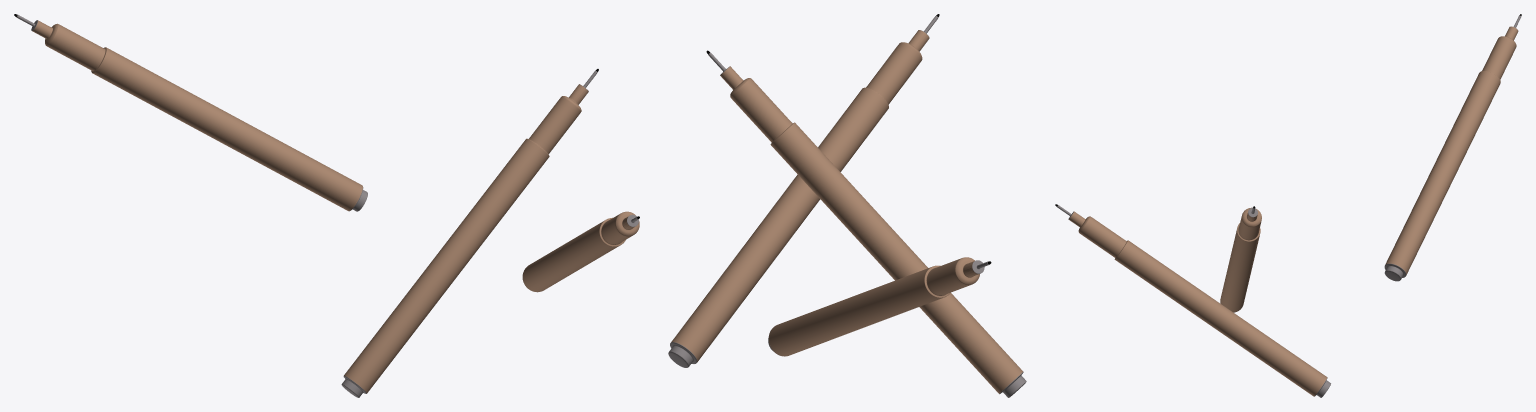
Rendered from pen-transformed.glb.
The picture shows the model from 3 angles, left to right: view 1: azimuth 30°, elevation 25°; view 2: azimuth 150°, elevation 25°; view 3: azimuth 270°, elevation 25°; orthographic projection. The views are drawn at different scales.
Visible parts, largest first — view 1: Cylinder; view 2: Cylinder; view 3: Cylinder.
Boxes of the visible parts, left/top/right/bottom form: Cylinder: left=14, top=14, right=639, bottom=397; Cylinder: left=668, top=14, right=1026, bottom=397; Cylinder: left=1055, top=14, right=1521, bottom=397.
Size of the model in its own units: 2.58 by 1.71 by 3.09.
